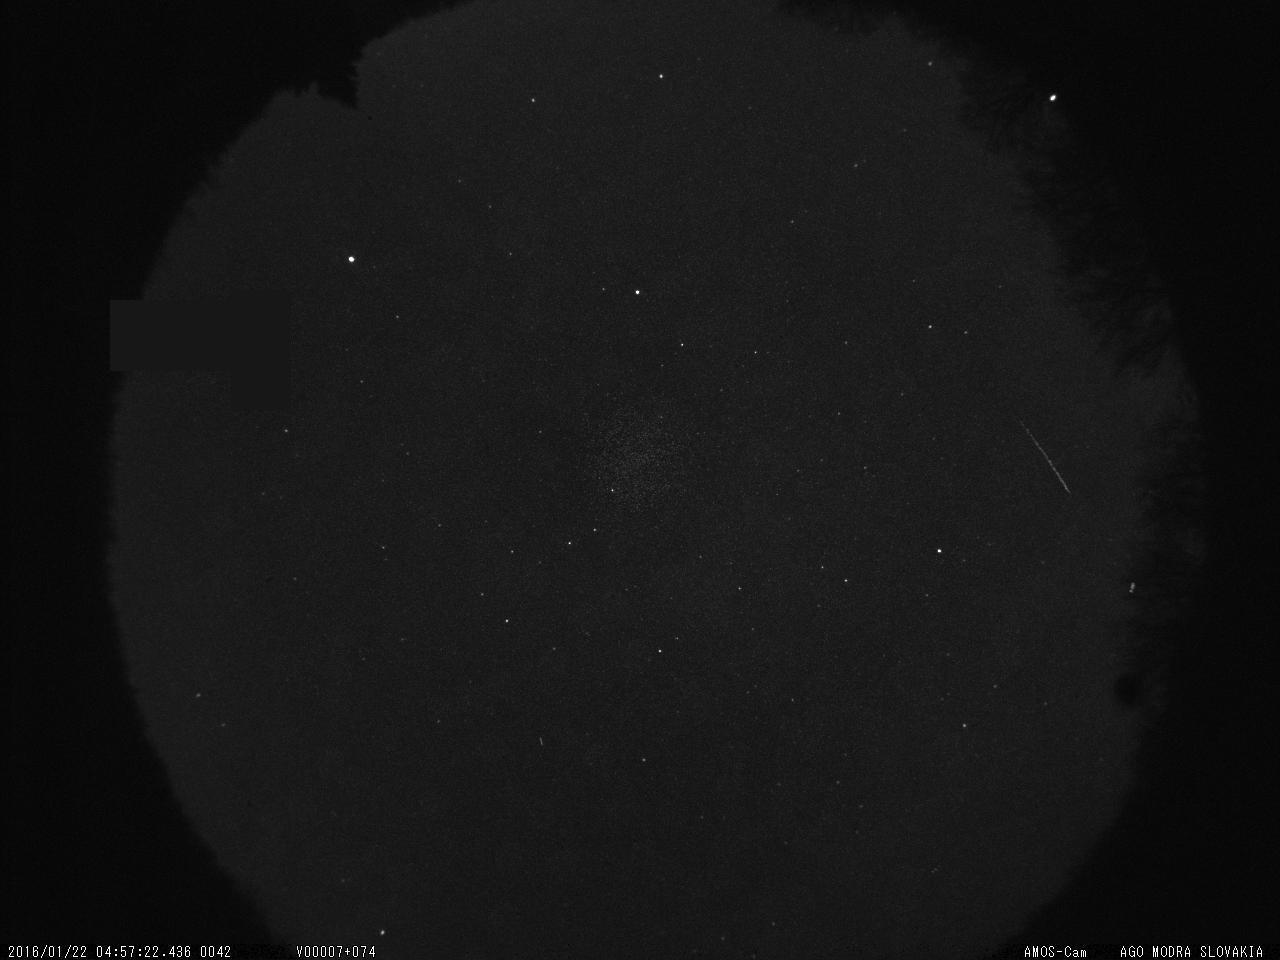meteor: (1010, 409, 1085, 512)
